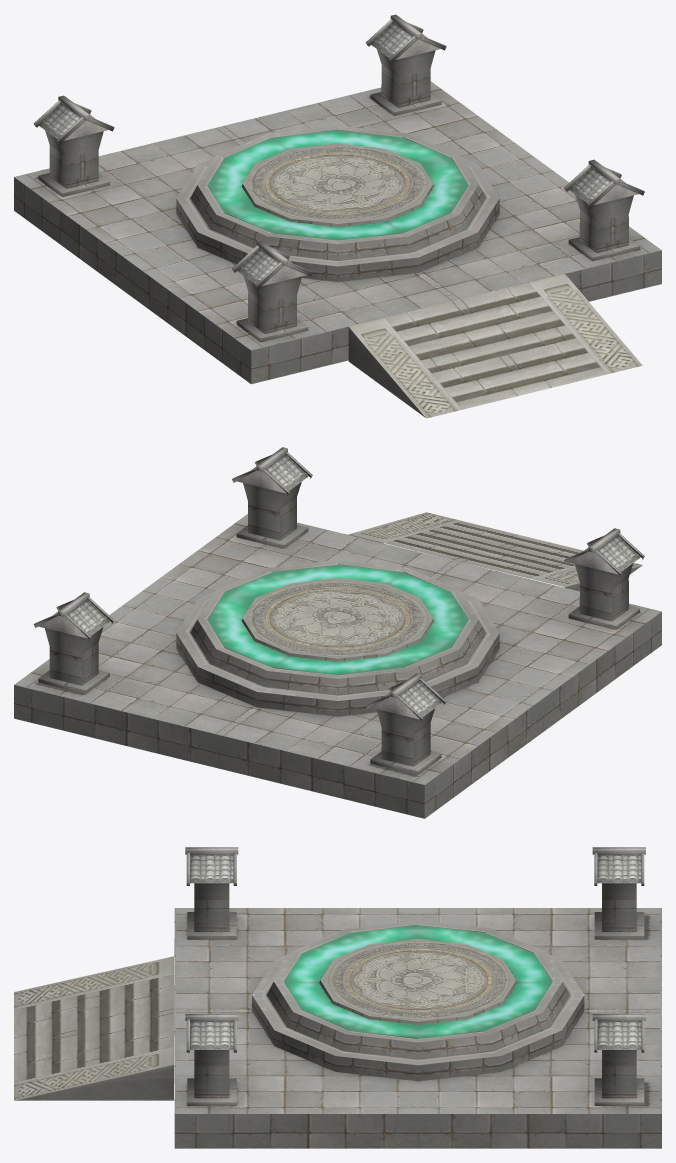
Rendered from 3k_map_guild.FBX.
3 views of the same model, one above another, from view 1: azimuth 30°, elevation 25°; view 2: azimuth 150°, elevation 25°; view 3: azimuth 270°, elevation 25° (orthographic). The views are drawn at different scales.
Parts seen in each view (by area): view 1: 3k_map_guild; view 2: 3k_map_guild; view 3: 3k_map_guild.
Boxes of the visible parts, <box> form: 3k_map_guild: <box>14,14,661,418</box>; 3k_map_guild: <box>14,447,661,818</box>; 3k_map_guild: <box>14,847,661,1148</box>.
Bounding box in the file's own units: 2047 × 530 × 2721.
